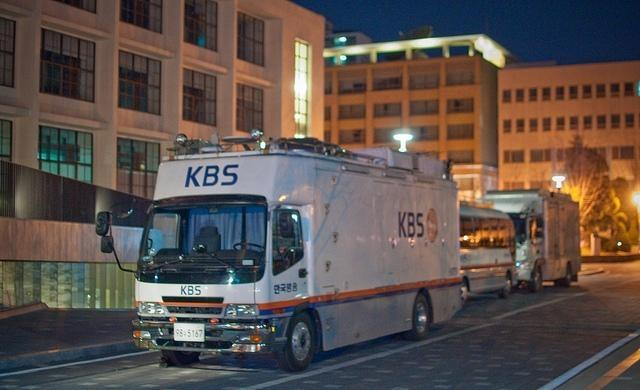bus: (456, 205, 517, 303)
truck: (94, 131, 463, 376), (478, 186, 582, 292)
